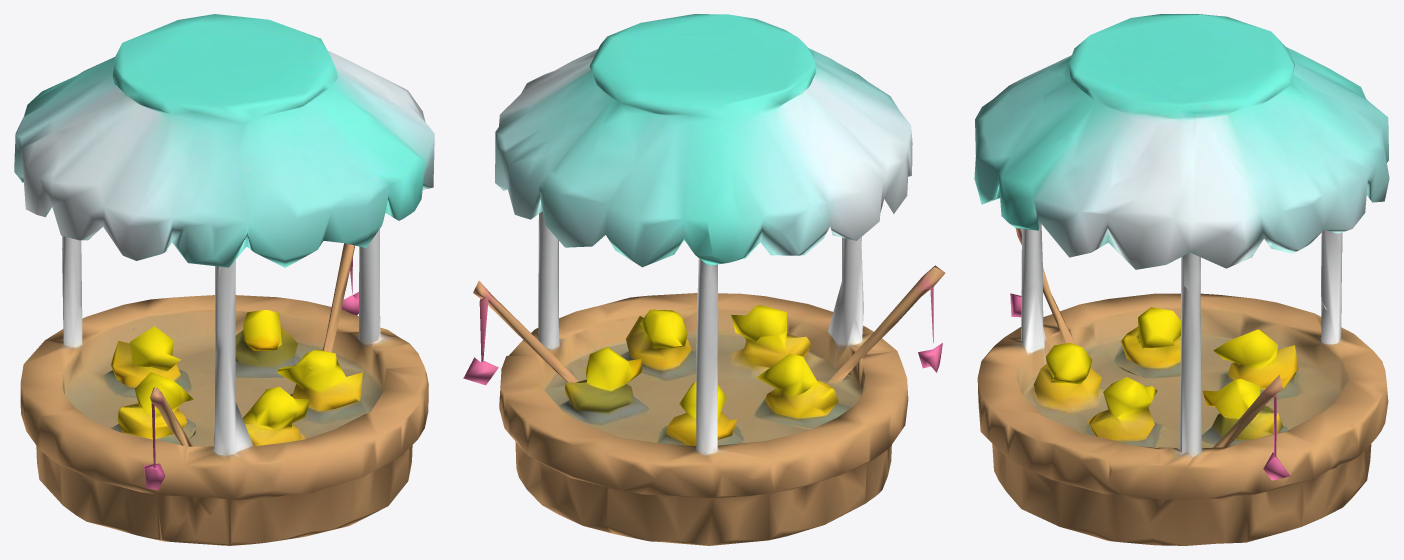
The model's file is stand-peche.glb.
3 renders of one model, left to right at view 1: azimuth 30°, elevation 25°; view 2: azimuth 150°, elevation 25°; view 3: azimuth 270°, elevation 25°, orthographic.
Visible parts, largest first — view 1: tripo_node_33083588-0820-4d8d-8c52-ae386eea8455; view 2: tripo_node_33083588-0820-4d8d-8c52-ae386eea8455; view 3: tripo_node_33083588-0820-4d8d-8c52-ae386eea8455.
Boxes of the visible parts, <box> form: tripo_node_33083588-0820-4d8d-8c52-ae386eea8455: <box>14,14,434,545</box>; tripo_node_33083588-0820-4d8d-8c52-ae386eea8455: <box>463,14,945,545</box>; tripo_node_33083588-0820-4d8d-8c52-ae386eea8455: <box>974,14,1389,545</box>.
Bounding box in the file's own units: 0.9419 × 1 × 0.9169.
1 material, 1 textured.
